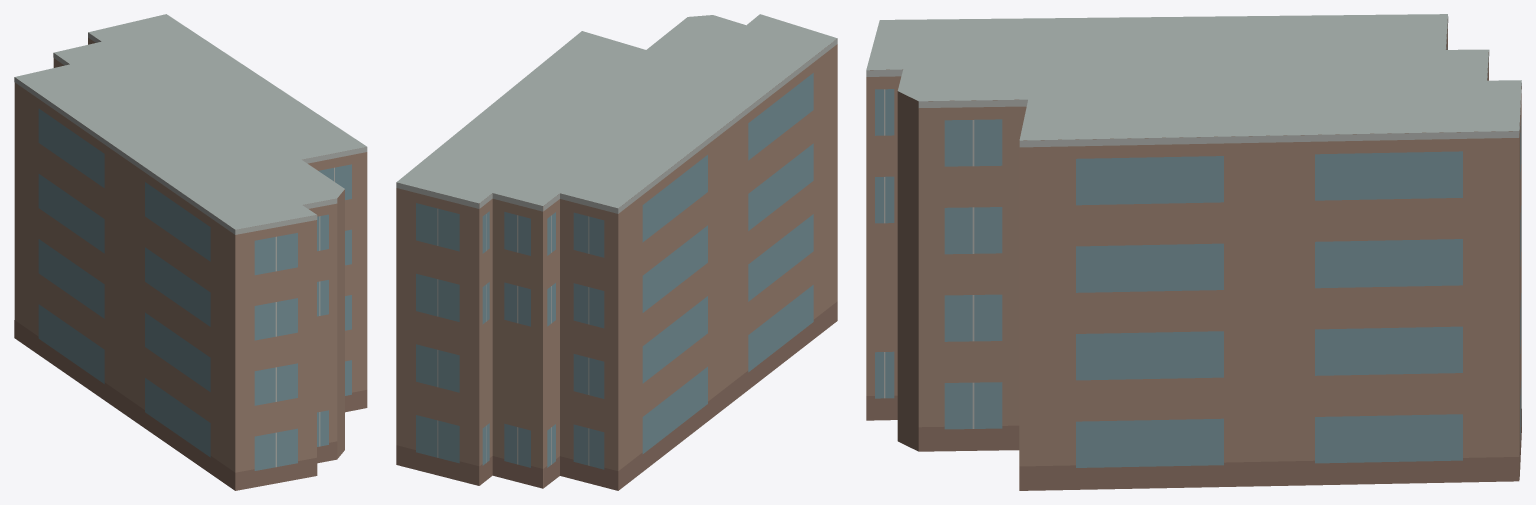
The model's file is survey-upis-32701333.glb.
3 renders of one model, left to right at view 1: azimuth 30°, elevation 25°; view 2: azimuth 150°, elevation 25°; view 3: azimuth 270°, elevation 25°, orthographic. The views are drawn at different scales.
Parts seen in each view (by area): view 1: survey-upis-32701333.tmp; view 2: survey-upis-32701333.tmp; view 3: survey-upis-32701333.tmp.
Part boxes in pixels (box(x1,y1,x2,y2)): survey-upis-32701333.tmp: box(14, 14, 367, 490); survey-upis-32701333.tmp: box(396, 14, 837, 490); survey-upis-32701333.tmp: box(866, 14, 1521, 490).
Bounding box in the file's own units: 9.61 × 12.4 × 21.04.
